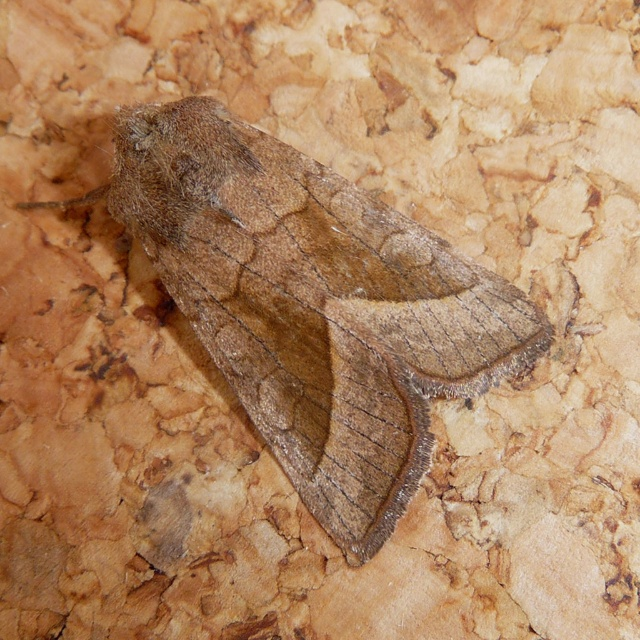Moths and butterflies: (12, 92, 562, 575)
